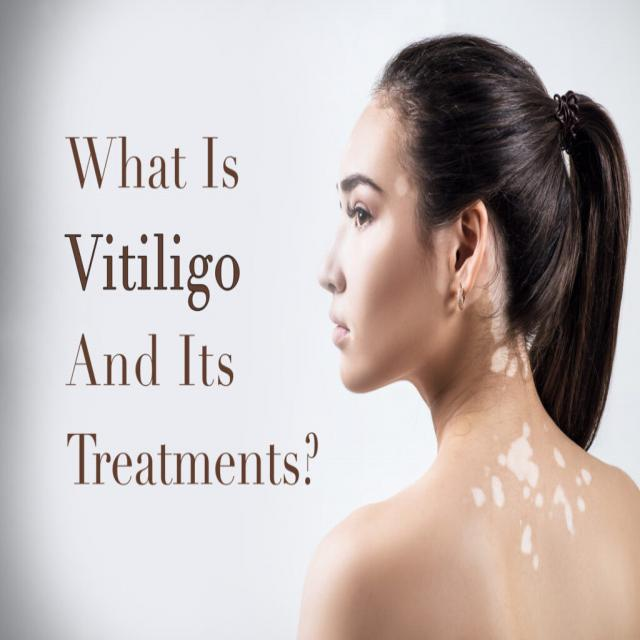vitiligo: (402, 214, 597, 592)
